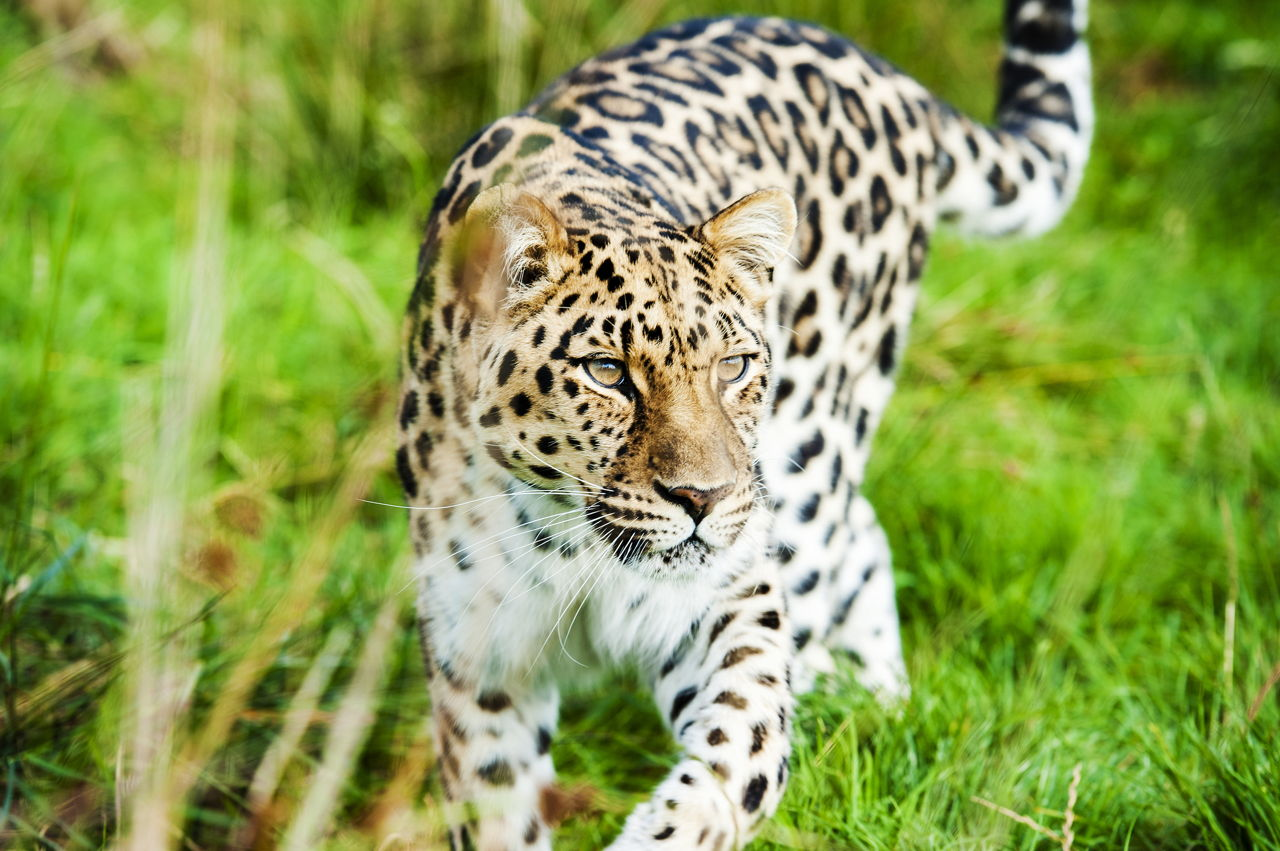amur_leopard: (337, 104, 961, 821)
